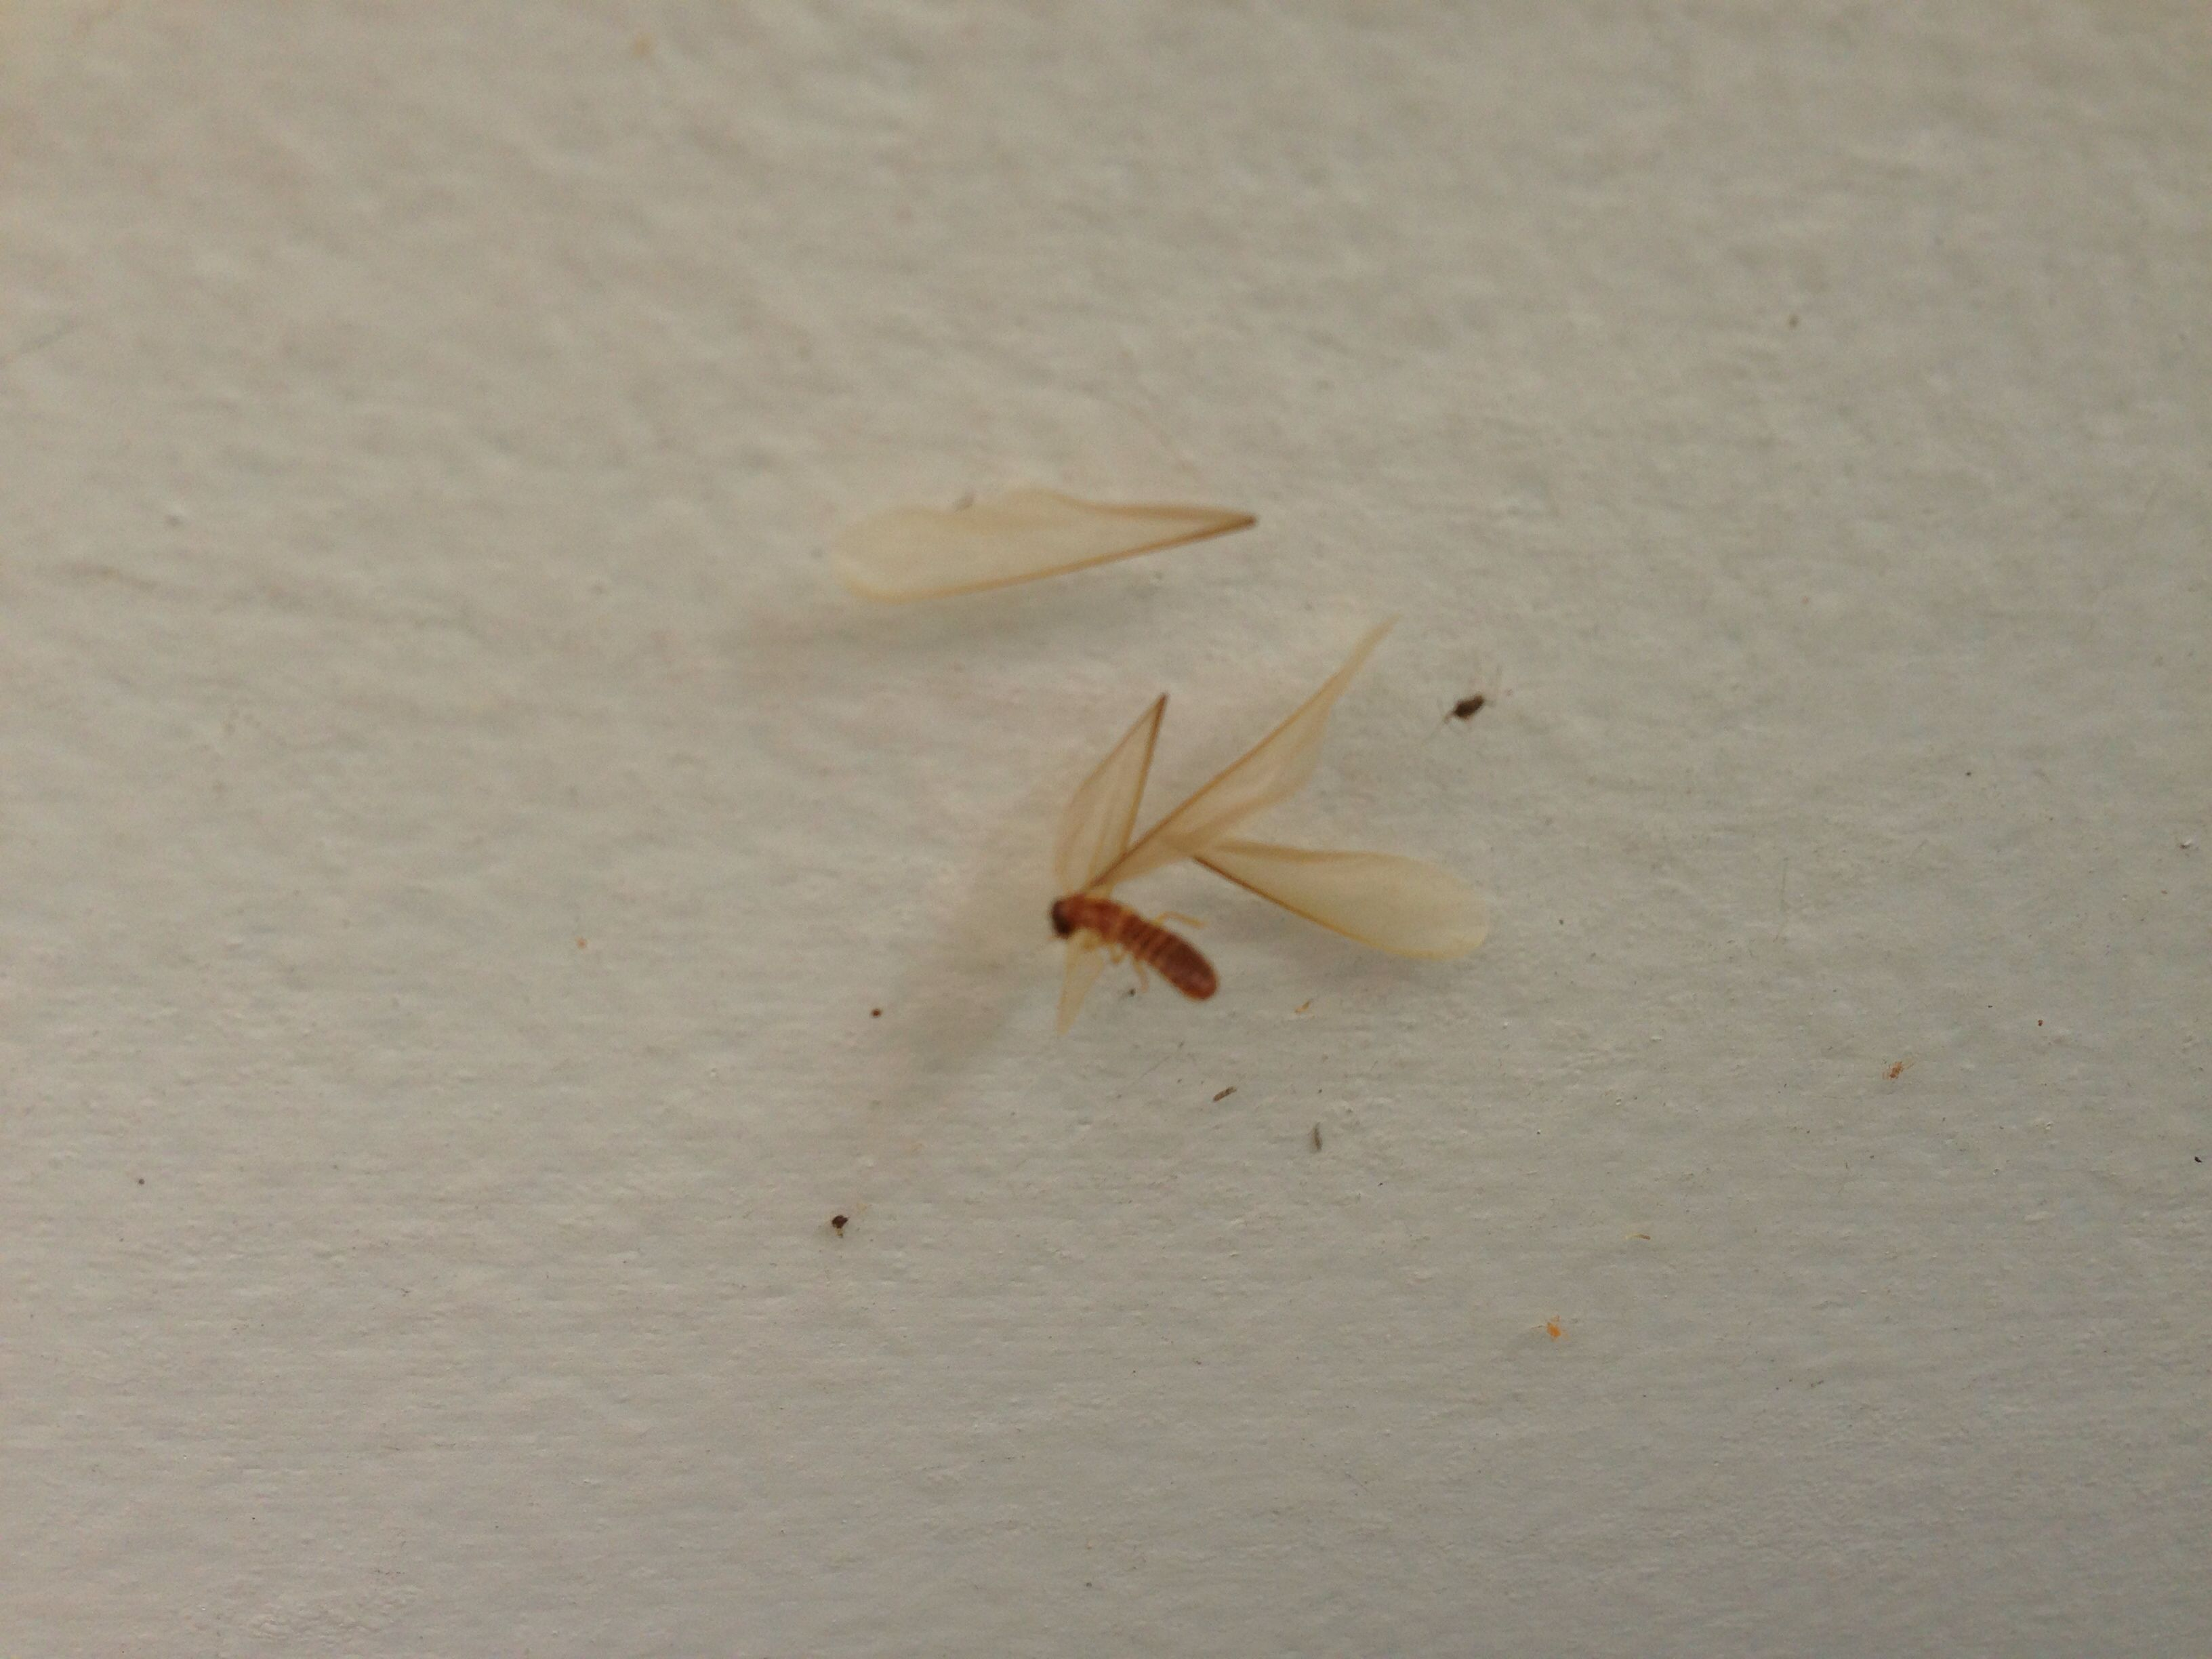flying termite: (932, 660, 1507, 1110)
